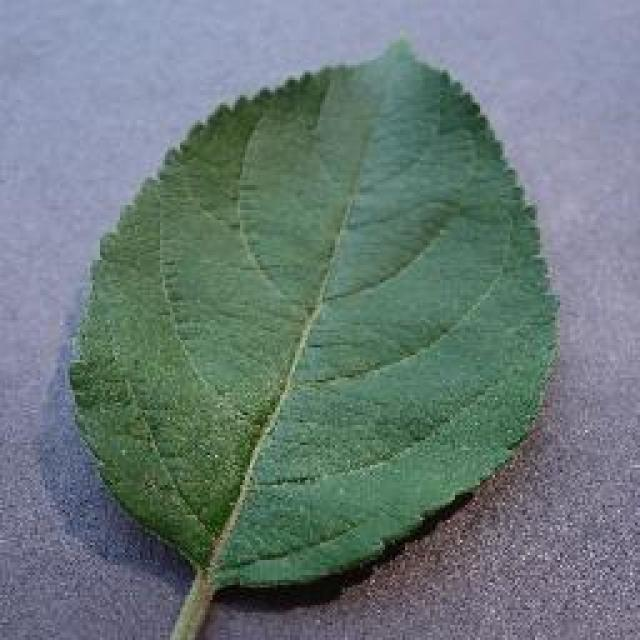apple healthy: (62, 32, 562, 638)
